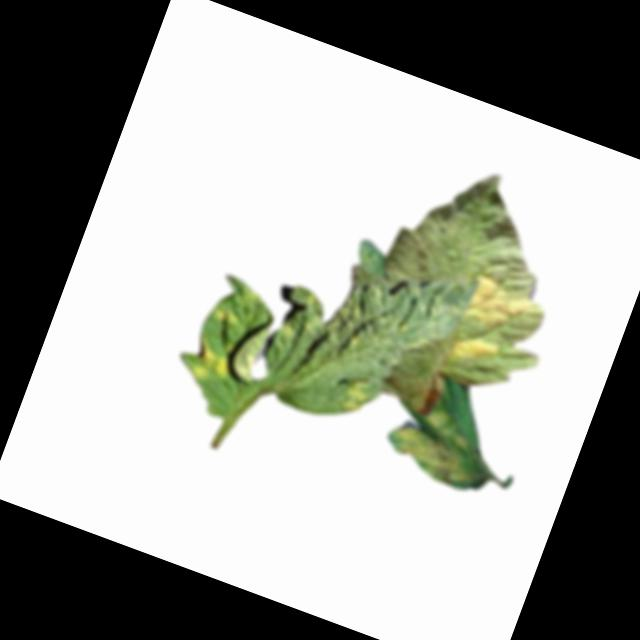Leaf_Mold: (377, 393, 491, 492), (460, 272, 543, 344), (444, 329, 505, 376), (187, 335, 239, 389), (334, 370, 376, 419), (209, 300, 244, 330)
